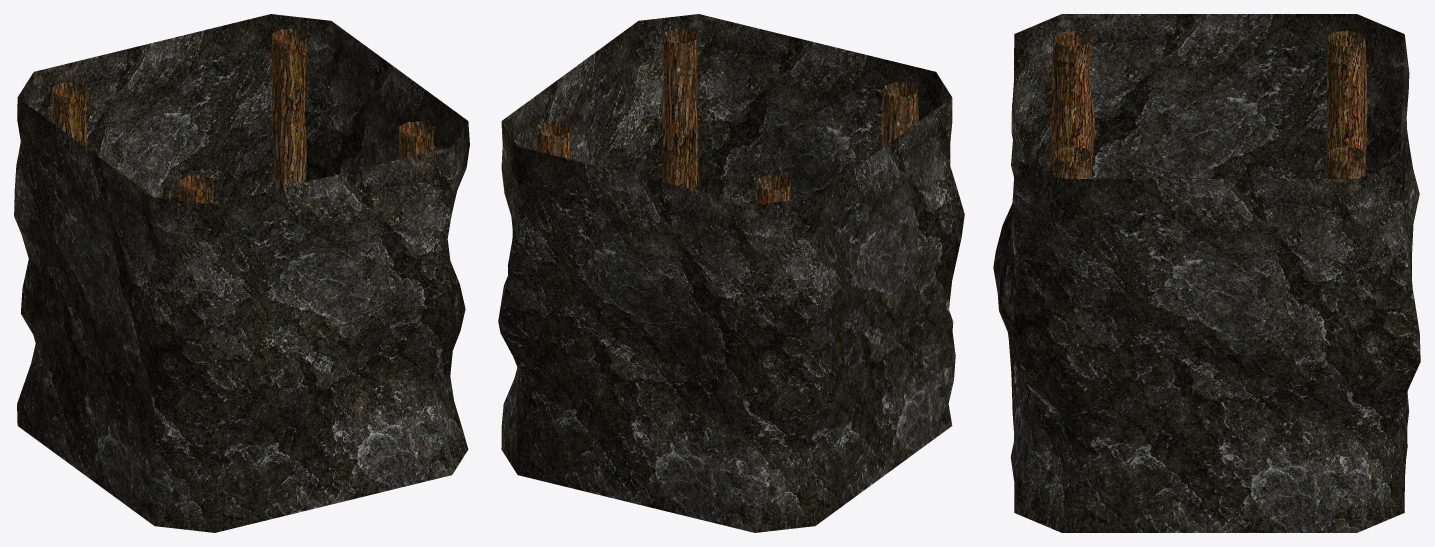
File: Cave_020.fbx
3 renders of one model, left to right at view 1: azimuth 30°, elevation 25°; view 2: azimuth 150°, elevation 25°; view 3: azimuth 270°, elevation 25°, orthographic. The views are drawn at different scales.
Parts seen in each view (by area): view 1: Cave.020; view 2: Cave.020; view 3: Cave.020.
Boxes of the visible parts, x1=… form: Cave.020: x1=14, y1=14, x2=469, y2=532; Cave.020: x1=498, y1=14, x2=964, y2=532; Cave.020: x1=993, y1=14, x2=1420, y2=532.
Size of the model in its own units: 313 by 300 by 328.
